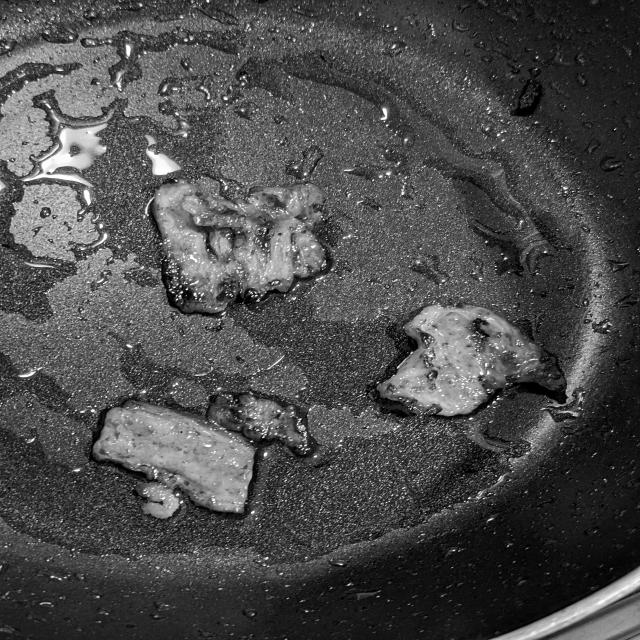OK cooked pork,: (79, 385, 324, 527), (137, 178, 340, 325), (362, 299, 583, 429)
